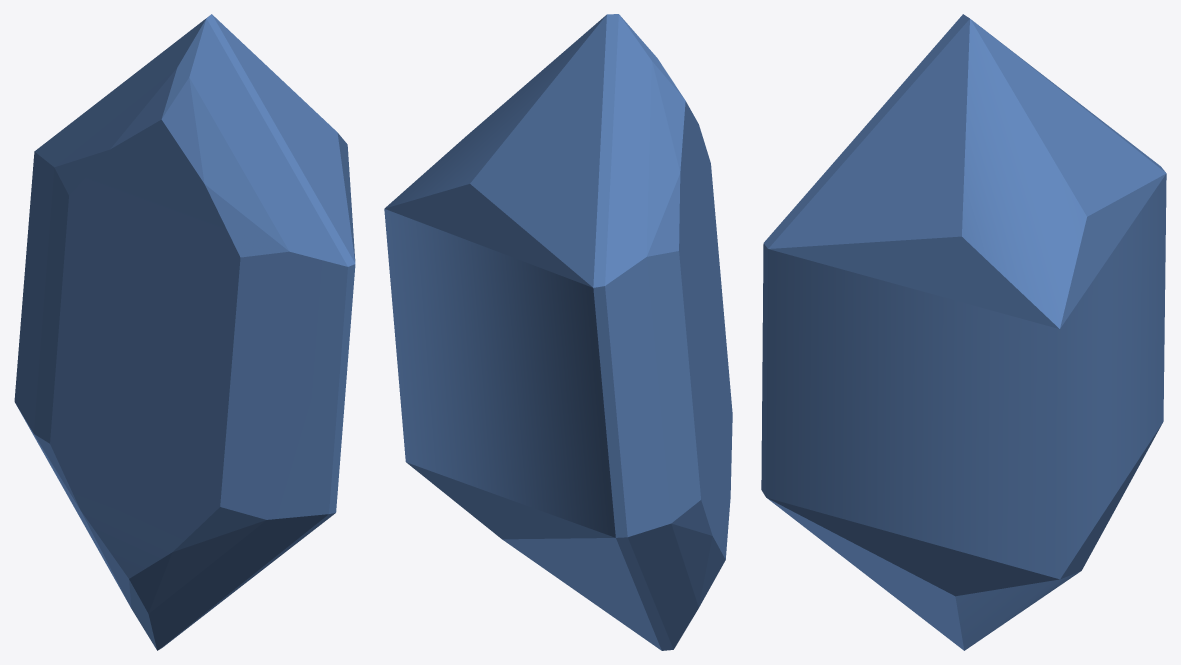
File: BL5_8shapes_Hex_Classic_Stone.001 2.glb
3 renders of one model, left to right at view 1: azimuth 30°, elevation 25°; view 2: azimuth 150°, elevation 25°; view 3: azimuth 270°, elevation 25°, orthographic. The views are drawn at different scales.
Visible parts, largest first — view 1: BL5_8shapes_Hex_Classic_Stone.001; view 2: BL5_8shapes_Hex_Classic_Stone.001; view 3: BL5_8shapes_Hex_Classic_Stone.001.
Boxes of the visible parts, x1,y1,x2,y2 form: BL5_8shapes_Hex_Classic_Stone.001: (14,14,355,650); BL5_8shapes_Hex_Classic_Stone.001: (384,14,732,650); BL5_8shapes_Hex_Classic_Stone.001: (761,14,1166,650).
Bounding box in the file's own units: 0.3445 × 0.667 × 0.3714.
